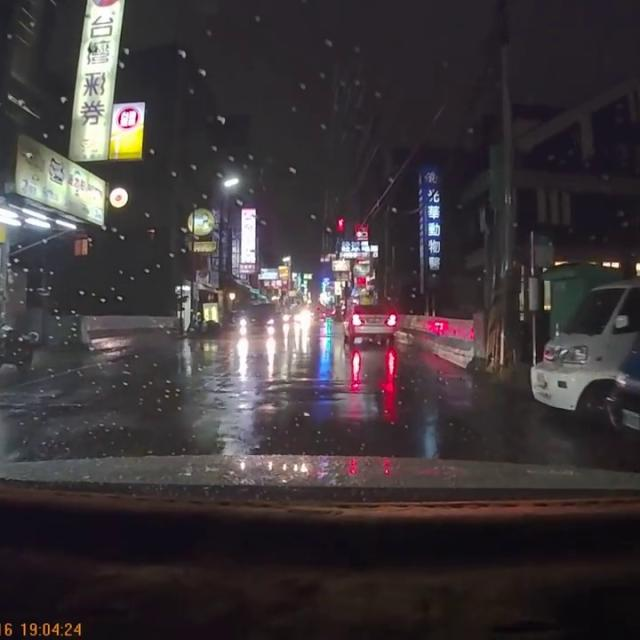Car: (529, 277, 639, 421), (340, 301, 395, 344)
